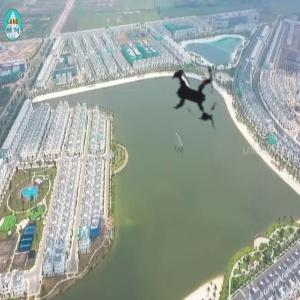drone: (139, 37, 255, 153)
